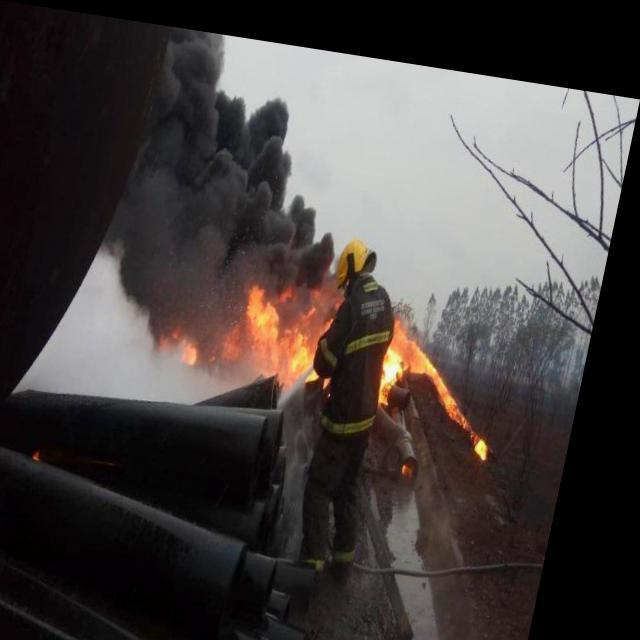Fire: (232, 251, 529, 442), (161, 314, 215, 358)
